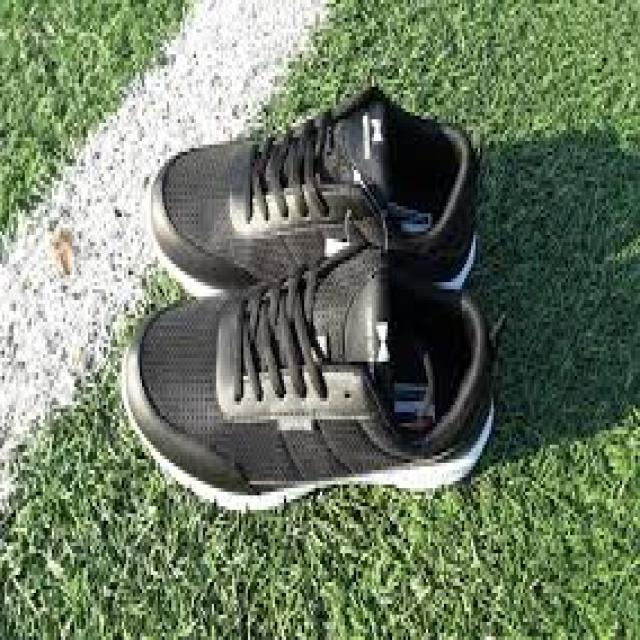shoe: (119, 249, 494, 513), (149, 87, 480, 300)
